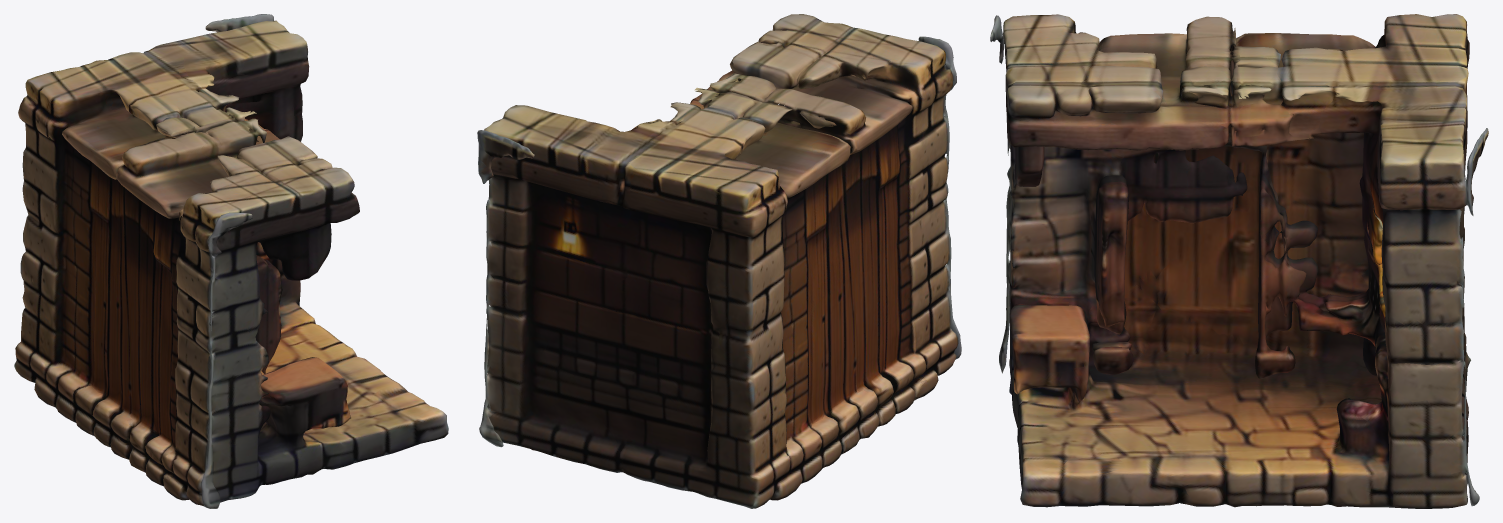
The model's file is left-section.glb.
3 renders of one model, left to right at view 1: azimuth 30°, elevation 25°; view 2: azimuth 150°, elevation 25°; view 3: azimuth 270°, elevation 25°, orthographic. The views are drawn at different scales.
Visible parts, largest first — view 1: tripo_node_e9cfb319-f015-40bc-a994-d4d578345827; view 2: tripo_node_e9cfb319-f015-40bc-a994-d4d578345827; view 3: tripo_node_e9cfb319-f015-40bc-a994-d4d578345827.
Boxes of the visible parts, x1=… form: tripo_node_e9cfb319-f015-40bc-a994-d4d578345827: x1=14, y1=14, x2=448, y2=508; tripo_node_e9cfb319-f015-40bc-a994-d4d578345827: x1=477, y1=14, x2=961, y2=508; tripo_node_e9cfb319-f015-40bc-a994-d4d578345827: x1=990, y1=14, x2=1488, y2=508.
Bounding box in the file's own units: 0.5651 × 0.6214 × 0.7568.
Materials: 1 (1 with a texture image).
